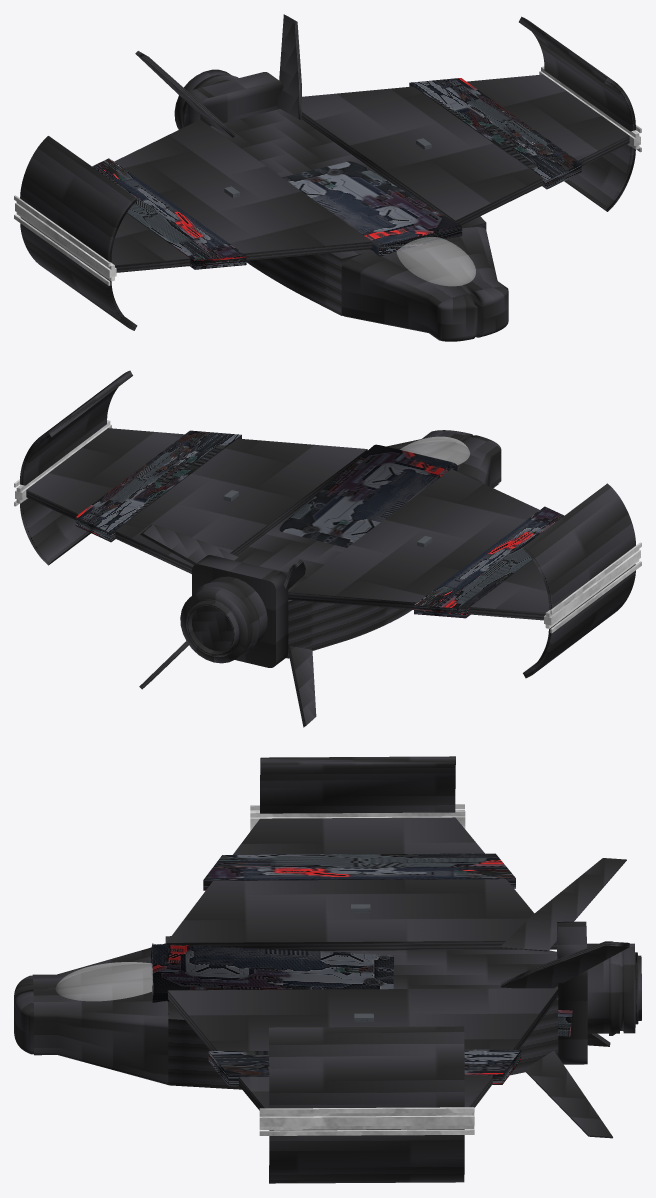
3 renders of one model, top to bottom at view 1: azimuth 30°, elevation 25°; view 2: azimuth 150°, elevation 25°; view 3: azimuth 270°, elevation 25°, orthographic. The views are drawn at different scales.
Visible parts, largest first — view 1: Extrusion Spline.005_53, Extrusion Spline.007_55, Cube_1, Extrusion Spline.004_52, LargeFins_61, Spline.010_46, Extrusion Spline.006_54, Extrusion Spline.008_56, Spline.009_39, Cube.045_50, Spline.011_47, Sphere_0 (+7 smaller); view 2: Extrusion Spline.005_53, Extrusion Spline.007_55, LargeFins_61, Spline.010_46, Extrusion Spline.004_52, Extrusion Spline.006_54, Cylindrical Lathe_51, Extrusion Spline.008_56, Cube.045_50, Spline.009_39, Cube_1, Spline.011_47 (+7 smaller); view 3: Extrusion Spline.007_55, Extrusion Spline.005_53, Spline.009_39, Cube_1, Spline.010_46, LargeFins_61, Extrusion Spline.004_52, Spline.008_38, Extrusion Spline.008_56, Cylindrical Lathe_51, Extrusion Spline.001_58, Cube.045_50 (+10 smaller).
Boxes of the visible parts, <box> form: Extrusion Spline.005_53: <box>301,74,629,225</box>; Extrusion Spline.007_55: <box>111,119,372,272</box>; Cube_1: <box>341,227,508,341</box>; Extrusion Spline.004_52: <box>210,109,486,315</box>; LargeFins_61: <box>282,161,462,256</box>; Spline.010_46: <box>20,136,137,262</box>; Extrusion Spline.006_54: <box>409,78,581,189</box>; Extrusion Spline.008_56: <box>92,158,246,269</box>; Spline.009_39: <box>519,16,635,131</box>; Cube.045_50: <box>187,72,283,126</box>; Spline.011_47: <box>20,217,137,330</box>; Sphere_0: <box>397,237,475,285</box>; Extrusion Spline.005_53: <box>26,428,367,573</box>; Extrusion Spline.007_55: <box>288,469,549,620</box>; LargeFins_61: <box>279,444,457,547</box>; Spline.010_46: <box>523,483,635,609</box>; Extrusion Spline.004_52: <box>235,475,439,658</box>; Extrusion Spline.006_54: <box>75,430,241,542</box>; Cylindrical Lathe_51: <box>180,576,267,663</box>; Extrusion Spline.008_56: <box>414,506,564,618</box>; Cube.045_50: <box>192,555,288,667</box>; Spline.009_39: <box>20,370,132,485</box>; Cube_1: <box>386,430,501,488</box>; Spline.011_47: <box>523,564,635,678</box>; Extrusion Spline.007_55: <box>166,817,556,950</box>; Extrusion Spline.005_53: <box>167,988,558,1110</box>; Spline.009_39: <box>269,1026,464,1108</box>; Cube_1: <box>14,943,168,1084</box>; Spline.010_46: <box>260,756,455,813</box>; LargeFins_61: <box>151,943,572,1036</box>; Extrusion Spline.004_52: <box>165,936,558,1089</box>; Spline.008_38: <box>269,1129,464,1183</box>; Extrusion Spline.008_56: <box>203,853,515,890</box>; Cylindrical Lathe_51: <box>587,941,641,1035</box>; Extrusion Spline.001_58: <box>499,858,626,951</box>; Cube.045_50: <box>557,921,587,1064</box>.
Size of the model in its own units: 14.81 by 4.56 by 12.86.
Materials: 8 (5 with a texture image).
